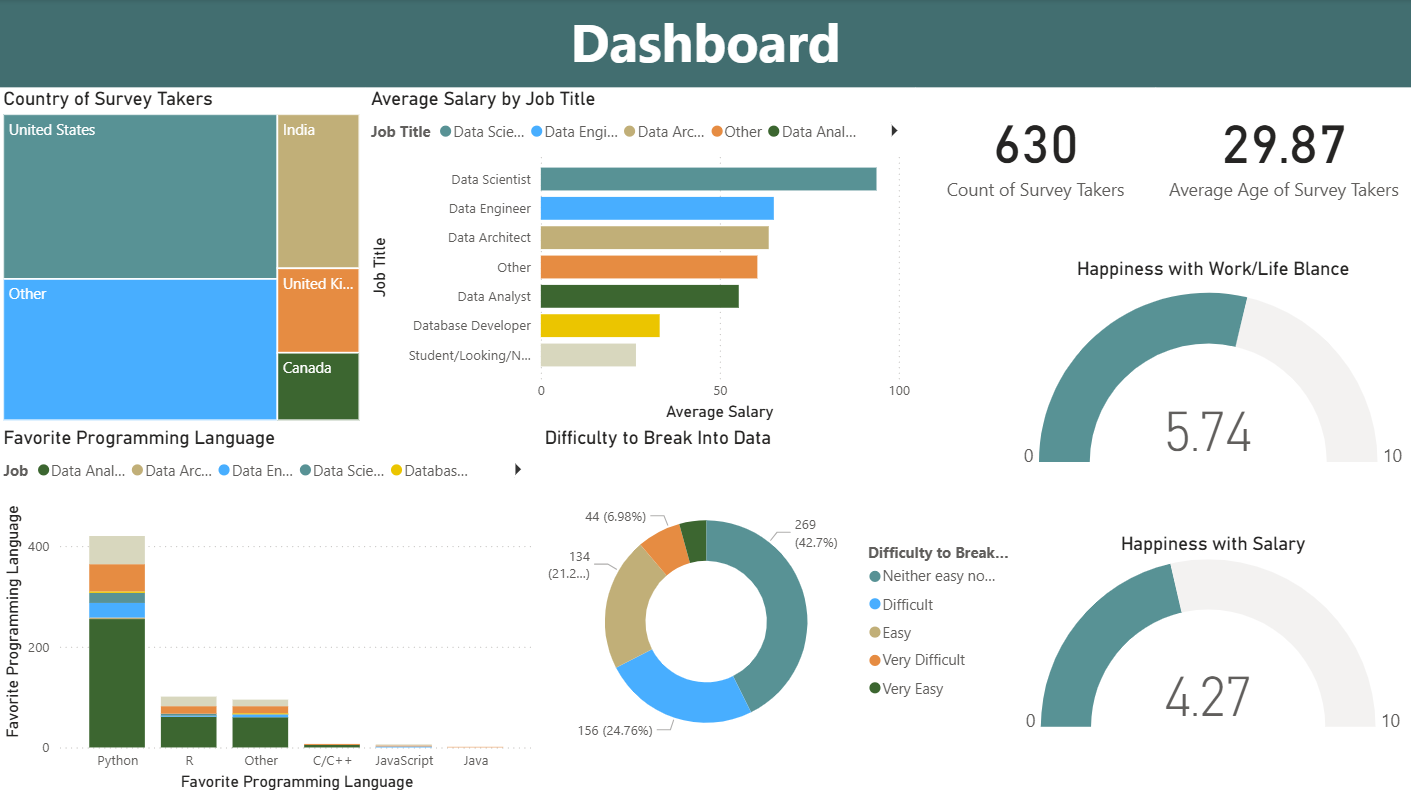

This screenshot's page, from the dashboard's own definition file:
{"tool":"powerbi","page":{"name":"Page 1","canvas":[1280,720],"ordinal":0},"visuals":[{"type":"textbox","box":[0,0,1280,80.3],"z":0},{"type":"card","fields":{"Values":["CountNonNull(Data Professional Survey.Unique ID)"]},"box":[829.6,80.3,217.7,113.4],"z":1000},{"type":"card","fields":{"Values":["Avg(Data Professional Survey.Q10 - Current Age)"]},"box":[1047.3,80.3,232.7,113.4],"z":2000},{"type":"treemap","title":"Country of Survey Takers","fields":{"Group":["Data Professional Survey.Q11 - Which Country do you live in?.1"],"Values":["CountNonNull(Data Professional Survey.Q11 - Which Country do you live in?.1)"]},"box":[0,80.3,332,306],"z":3000},{"type":"columnChart","title":"Favorite Programming Language","fields":{"Category":["Data Professional Survey.Q5 - Favorite Programming Language.1","Data Professional Survey.Q1 - Which Title Best Fits your Current Role?.1"],"Y":["CountNonNull(Data Professional Survey.Q5 - Favorite Programming Language.1)"],"Series":["Data Professional Survey.Q1 - Which Title Best Fits your Current Role?.1"]},"box":[0,386.2,489.5,334],"z":4000},{"type":"donutChart","title":"Difficulty to Break Into Data","fields":{"Y":["CountNonNull(Data Professional Survey.Q7 - How difficult was it for you to break into Data?)"],"Category":["Data Professional Survey.Q7 - How difficult was it for you to break into Data?"]},"box":[489.5,386.2,428.3,334],"z":5000},{"type":"gauge","title":"Happiness with Work/Life Blance","fields":{"Y":["Avg(Data Professional Survey.Q6 - How Happy are you in your Current Position with the following? (Work/Life Balance))"],"MinValue":["Min(Data Professional Survey.Q6 - How Happy are you in your Current Position with the following? (Work/Life Balance))"],"MaxValue":["Max(Data Professional Survey.Q6 - How Happy are you in your Current Position with the following? (Work/Life Balance))"]},"box":[917.9,233.7,362.1,202.6],"z":6000},{"type":"gauge","title":"Happiness with Salary","fields":{"Y":["Avg(Data Professional Survey.Q6 - How Happy are you in your Current Position with the following? (Salary))"],"MinValue":["Min(Data Professional Survey.Q6 - How Happy are you in your Current Position with the following? (Salary))"],"MaxValue":["Max(Data Professional Survey.Q6 - How Happy are you in your Current Position with the following? (Salary))"]},"box":[917.9,482.5,362.1,185.6],"z":7000},{"type":"barChart","title":"Average Salary by Job Title","fields":{"Category":["Data Professional Survey.Q1 - Which Title Best Fits your Current Role?.1"],"Series":["Data Professional Survey.Q1 - Which Title Best Fits your Current Role?.1"],"Y":["Avg(Data Professional Survey.Average Salary)"]},"box":[332,80.3,497.6,306],"z":8000}]}

Visuals, with their boxes in screenshot pixels (x1, y1, x2, y2), scaled from the page's 1280x720 canvas onto the 1411x792 screenshot:
textbox: 0, 0, 1410, 88
card - CountNonNull(Data Professional Survey.Unique ID): 915, 88, 1154, 213
card - Avg(Data Professional Survey.Q10 - Current Age): 1154, 88, 1410, 213
"Country of Survey Takers" treemap: 0, 88, 366, 425
"Favorite Programming Language" columnChart: 0, 425, 540, 791
"Difficulty to Break Into Data" donutChart: 540, 425, 1012, 791
"Happiness with Work/Life Blance" gauge: 1012, 257, 1410, 480
"Happiness with Salary" gauge: 1012, 531, 1410, 735
"Average Salary by Job Title" barChart: 366, 88, 915, 425
